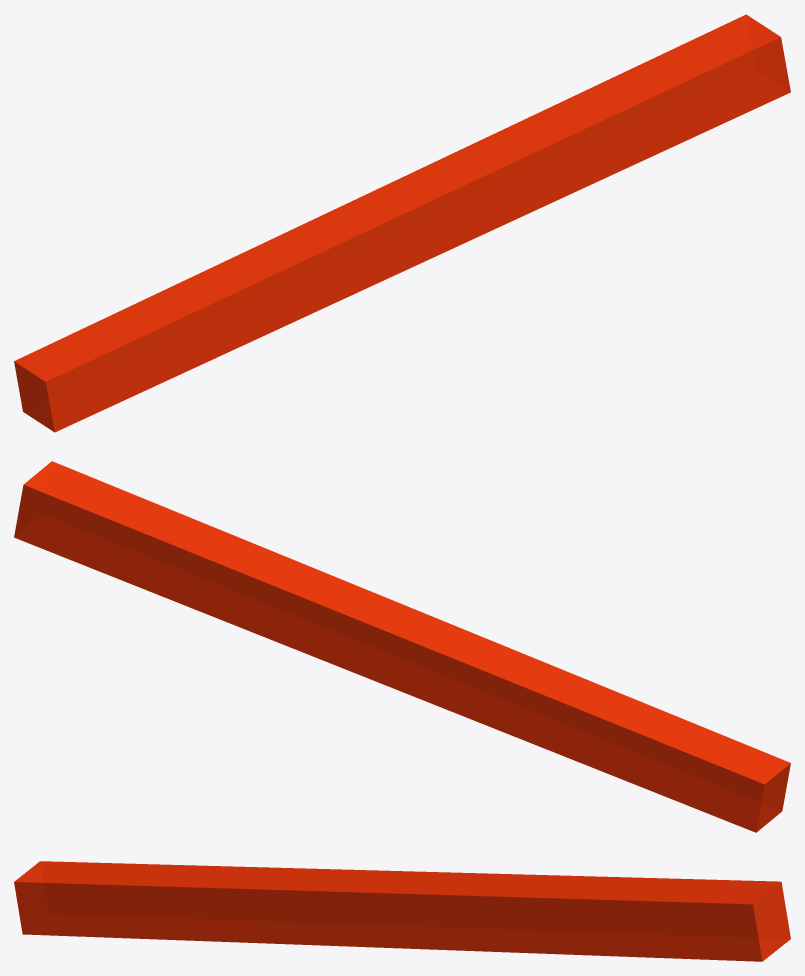
File: Event_421115418_EErechit_66.fbx
The picture shows the model from 3 angles, top to bottom: view 1: azimuth 30°, elevation 25°; view 2: azimuth 150°, elevation 25°; view 3: azimuth 330°, elevation 25°; orthographic projection. The views are drawn at different scales.
Parts seen in each view (by area): view 1: Model; view 2: Model; view 3: Model.
Boxes of the visible parts, x1,y1,x2,y2 form: Model: (14, 14, 790, 432); Model: (14, 461, 790, 832); Model: (14, 861, 790, 961).
Bounding box in the file's own units: 1.09 × 0.27 × 0.1272.
